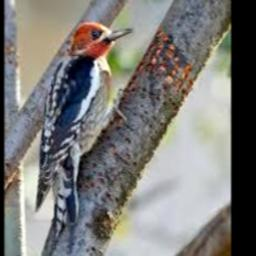Woodpecker: (35, 22, 134, 256)
